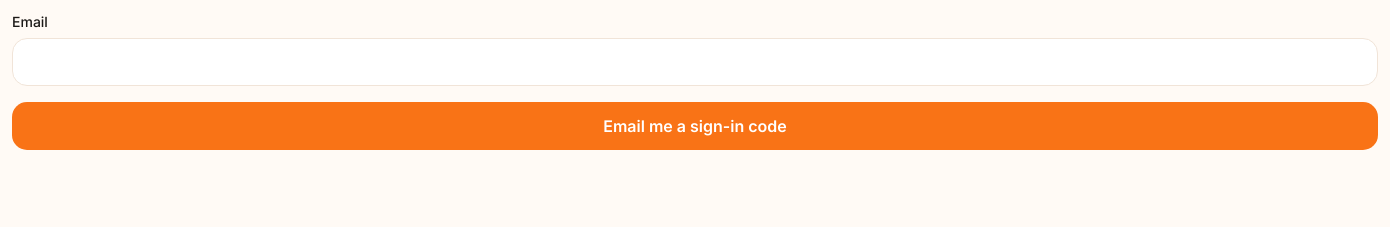
Test: SignInForm › shows a general error from the server
Type "a@b.co" into the field labelled "Email" at (695, 62), box 12,38 -> 1378,86
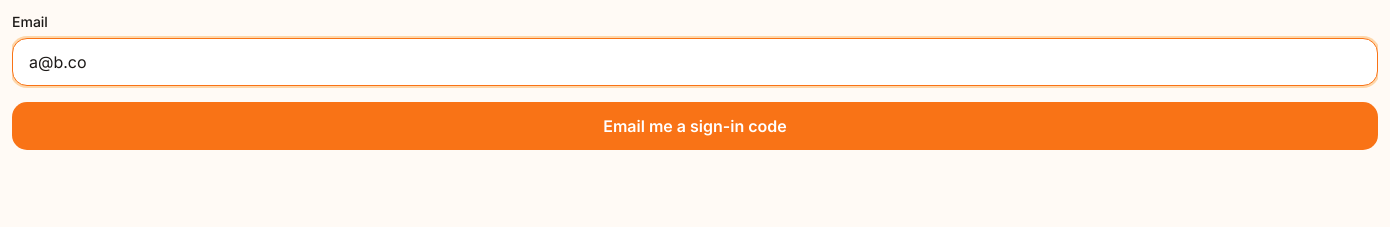
Click the button "Email me a sign-in code" at (695, 126), box 12,102 -> 1378,150
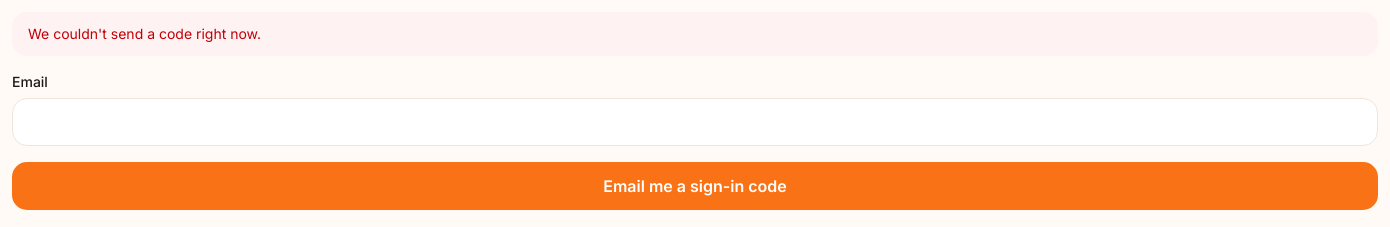
Now the message shows "couldn't send a code", box 28,25 -> 261,42
